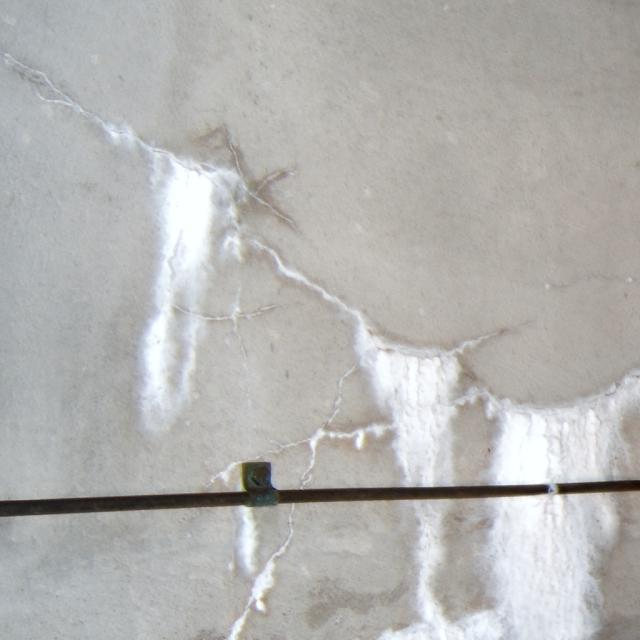D01: (377, 494, 621, 639), (142, 146, 241, 429), (490, 494, 613, 639), (490, 370, 639, 485), (226, 531, 293, 639), (238, 506, 257, 573)
